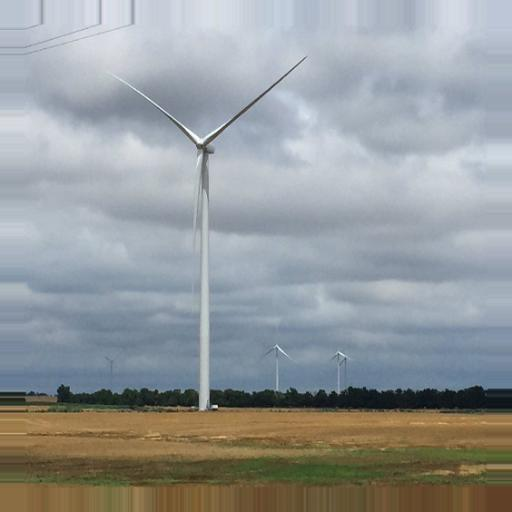wind turbine: (104, 55, 309, 407), (260, 329, 296, 397), (326, 340, 354, 394)
